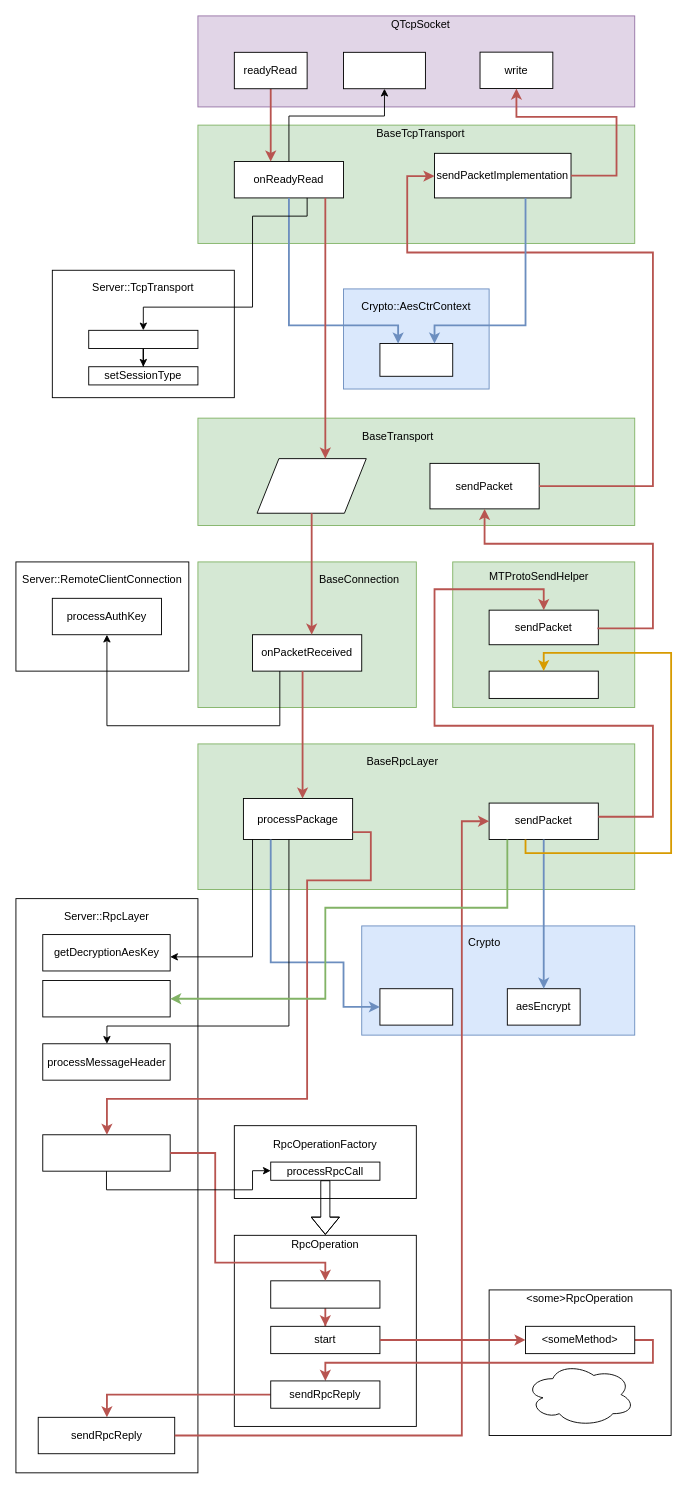
Image size: 695x1489. Some labels were removed from this diagram. Here are the shapes that lost their labels. From the top down, the centre of each, then its label:
the point at 384,70: readAll
the point at 143,339: readEvent
the point at 416,359: crypt
the point at 311,485: packetReceived
the point at 543,684: newMessageId
the point at 106,998: getEncryptionAesKey
the point at 416,1006: aesDecrypt
the point at 106,1152: processMTProtoMessage
the point at 325,1294: startLater
the point at 580,1394: see API page
